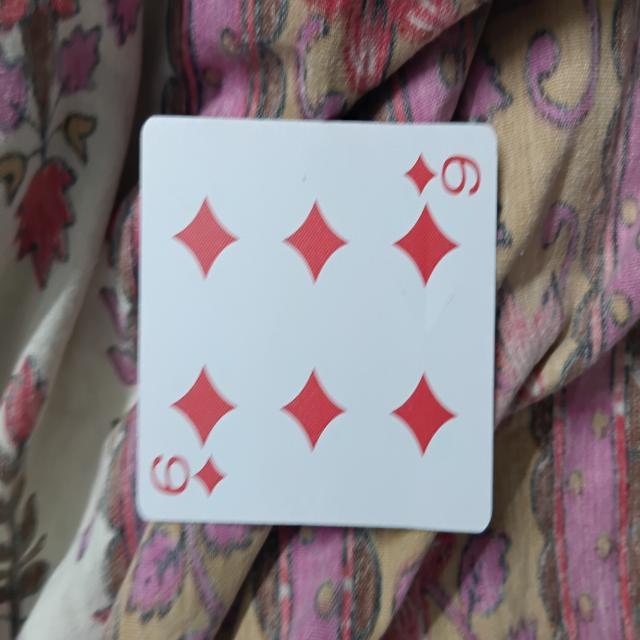6D: (140, 119, 493, 535)
